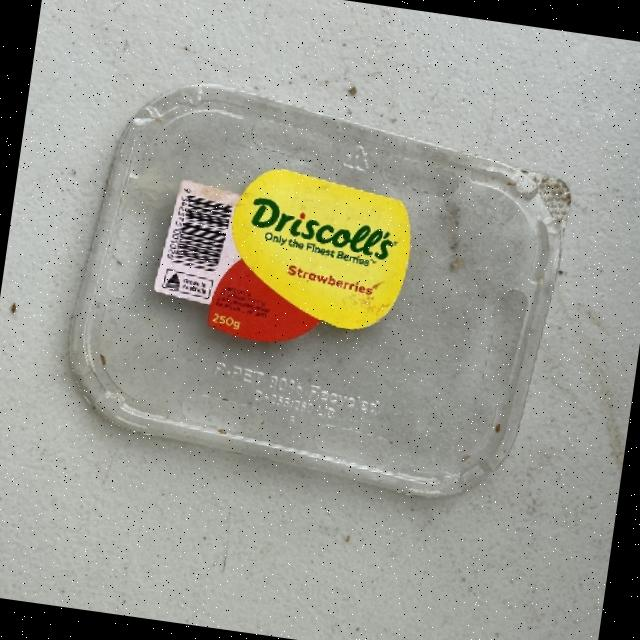plastic: (53, 68, 579, 512)
